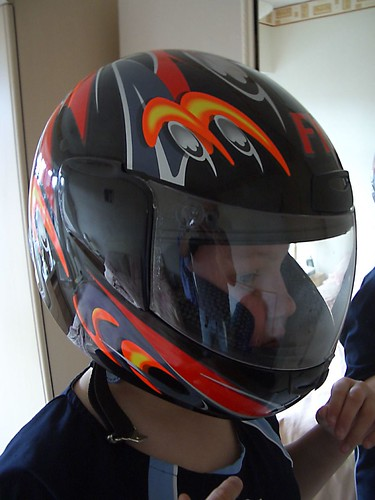helmet: (20, 37, 362, 428)
